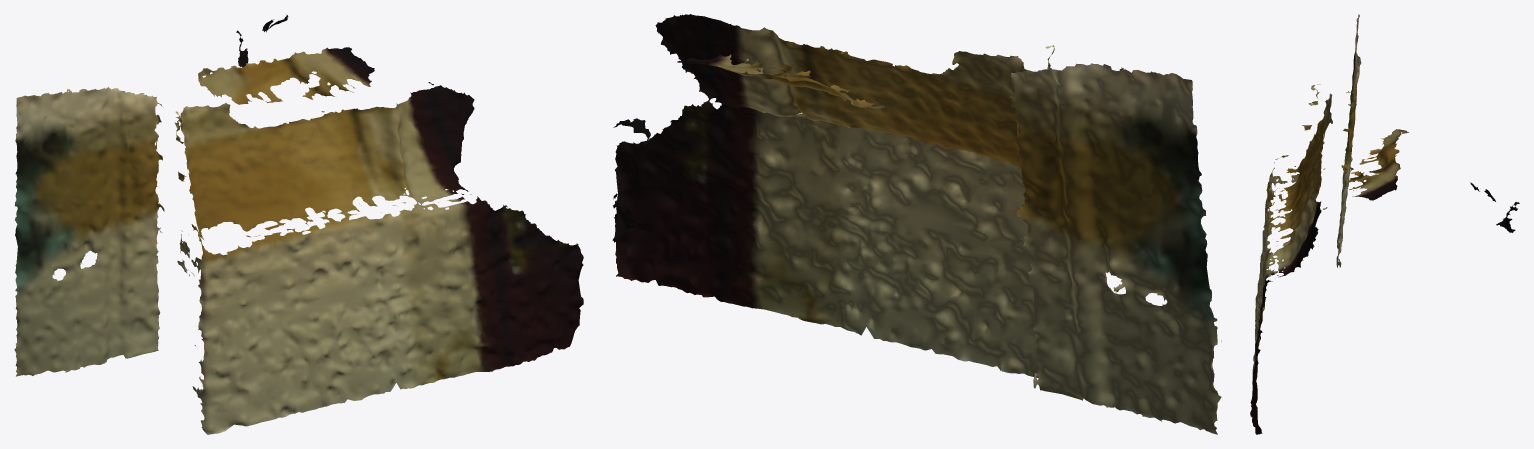
Rendered from final_color_model_20260211_234608.obj.
3 renders of one model, left to right at view 1: azimuth 30°, elevation 25°; view 2: azimuth 150°, elevation 25°; view 3: azimuth 270°, elevation 25°, orthographic. The views are drawn at different scales.
Size of the model in its own units: 2.12 by 1.27 by 1.27.
